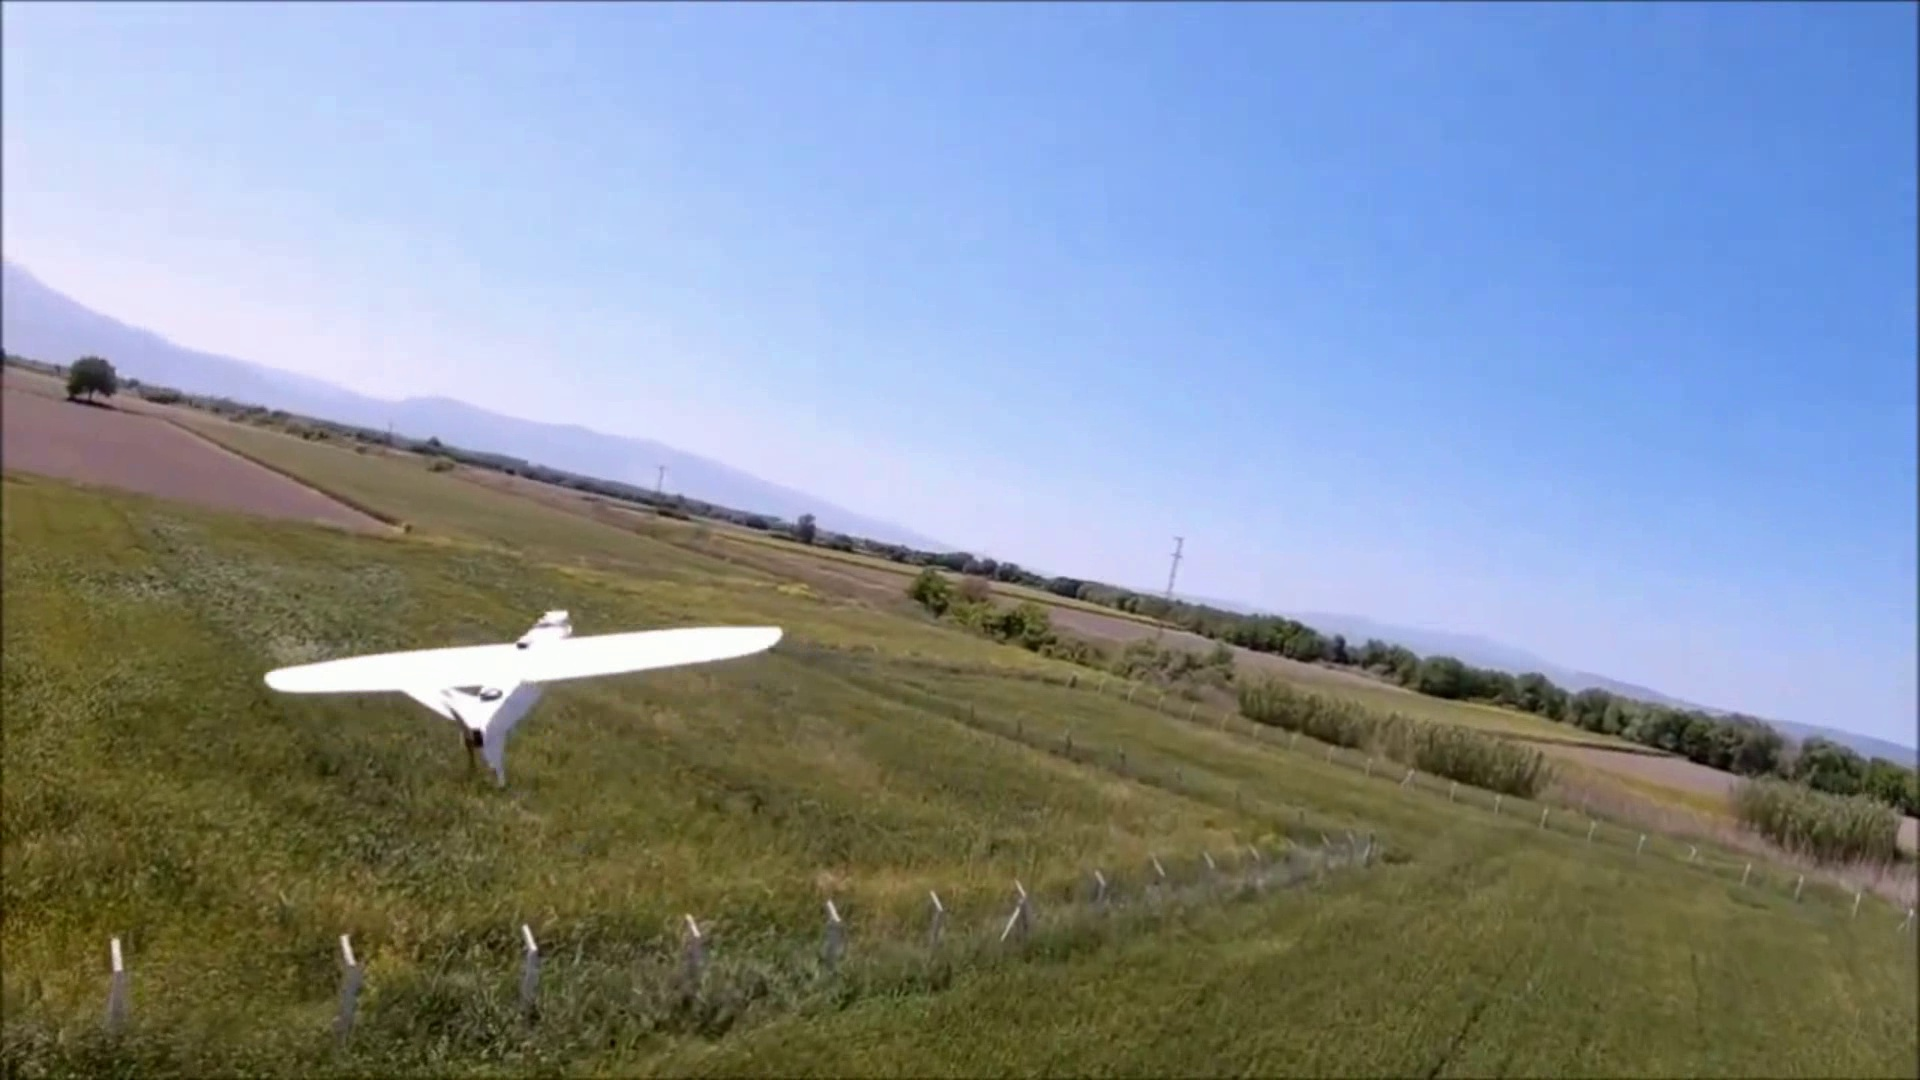airplane: (258, 609, 785, 793)
